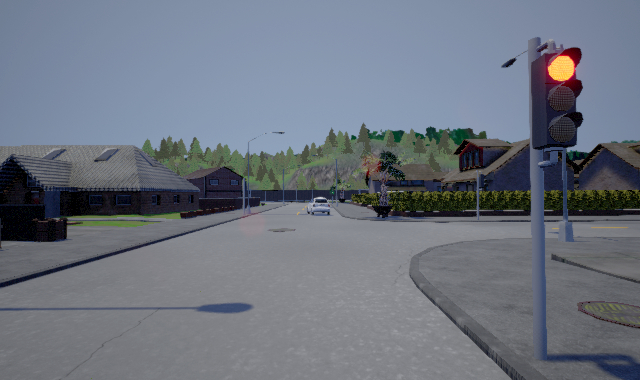traffic_light: (531, 45, 584, 150)
vehicle: (307, 197, 330, 215)
